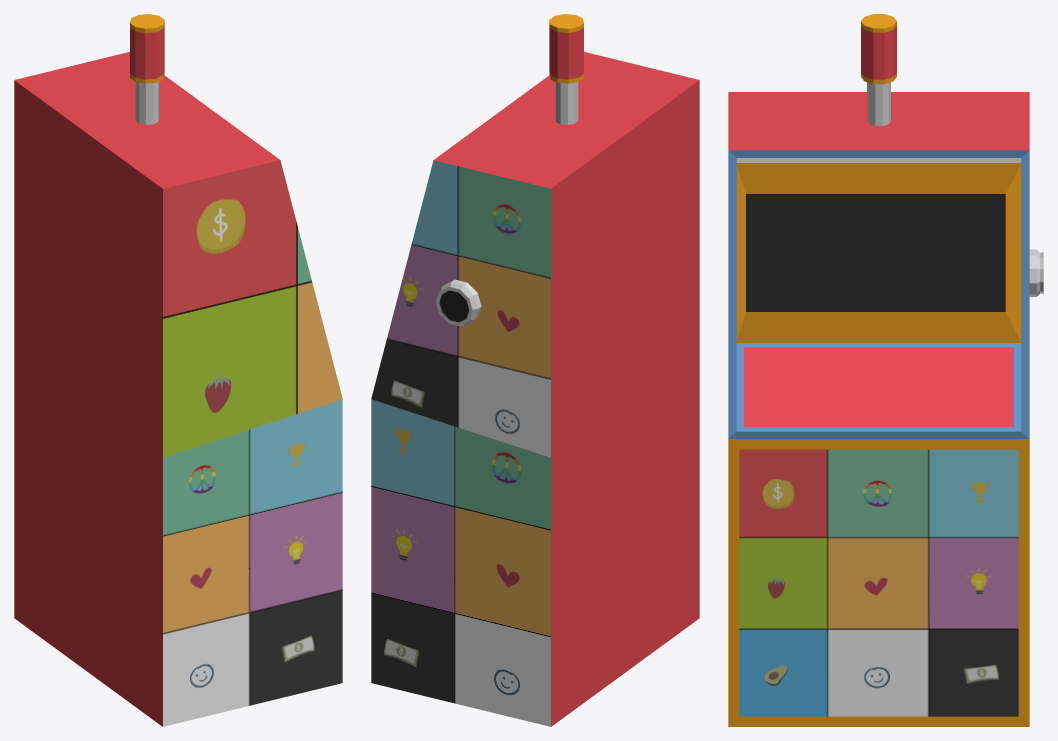
Rendered from SlotMachine.gltf.
3 views of the same model, side by side, from view 1: azimuth 30°, elevation 25°; view 2: azimuth 150°, elevation 25°; view 3: azimuth 270°, elevation 25° (orthographic).
Visible parts, largest first — view 1: Cube; view 2: Cube; view 3: Cube.
Boxes of the visible parts, left/top/right/bottom form: Cube: left=14, top=14, right=342, bottom=726; Cube: left=371, top=14, right=699, bottom=726; Cube: left=728, top=14, right=1043, bottom=726.
Bounding box in the file's own units: 2 × 6.76 × 2.99.
Materials: 1 (1 with a texture image).
